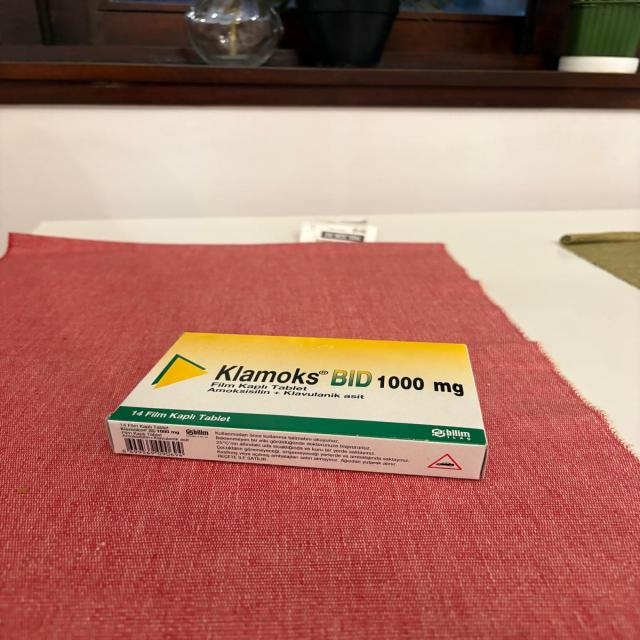good_package: (106, 330, 486, 488)
